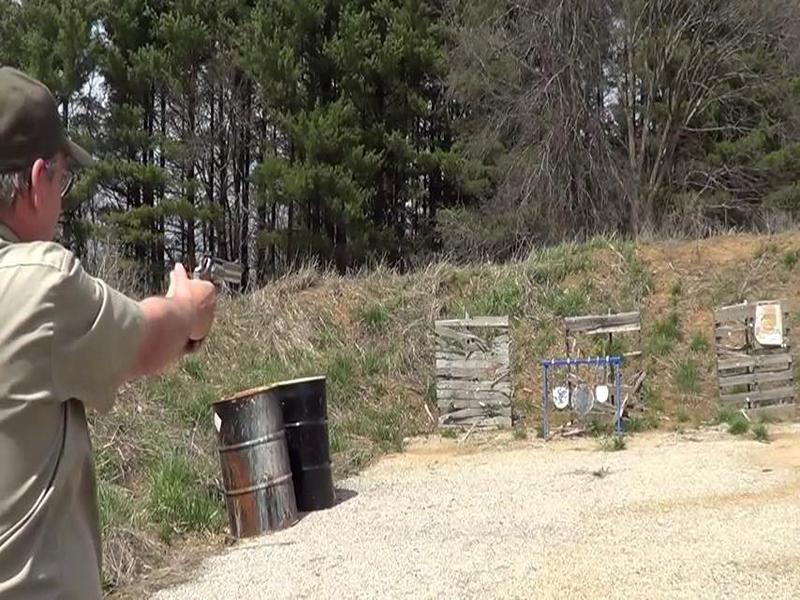Revolver: (192, 250, 264, 324)
